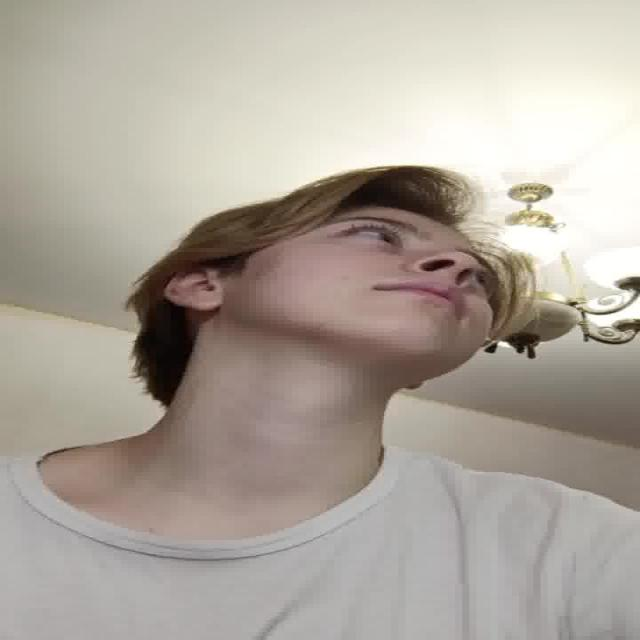earlobe: (165, 266, 222, 313)
